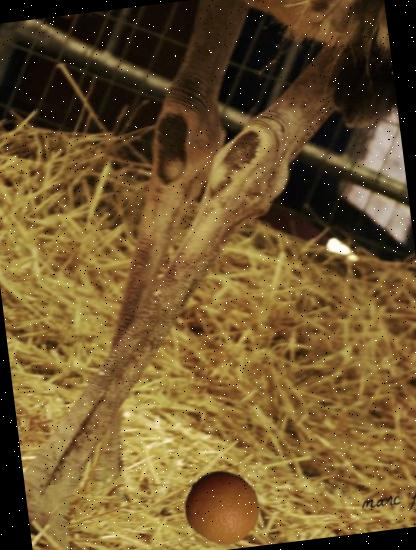Orange: (180, 465, 265, 550)
